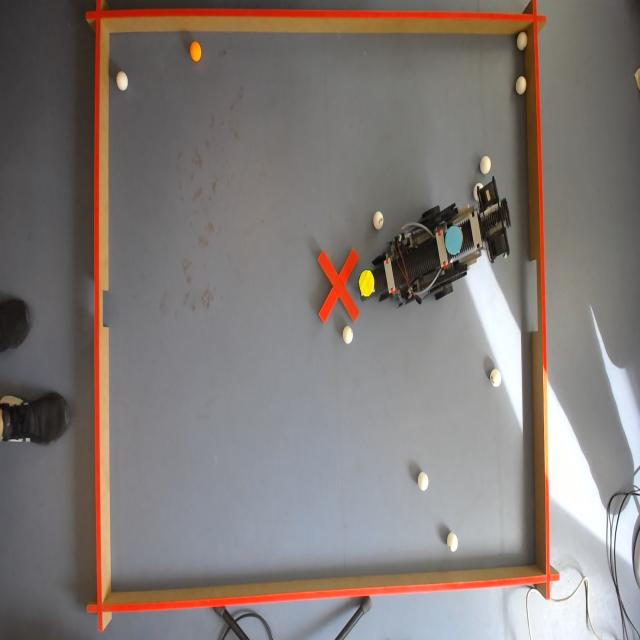orange: (190, 43, 204, 64)
robot: (378, 195, 509, 302)
robot-front: (359, 270, 374, 297)
robot-rear: (444, 224, 462, 256)
white: (446, 533, 461, 556), (342, 327, 355, 348), (117, 71, 128, 94), (515, 76, 527, 95), (516, 32, 527, 52), (418, 473, 430, 491), (373, 213, 385, 231), (479, 156, 491, 173), (491, 370, 501, 384)
